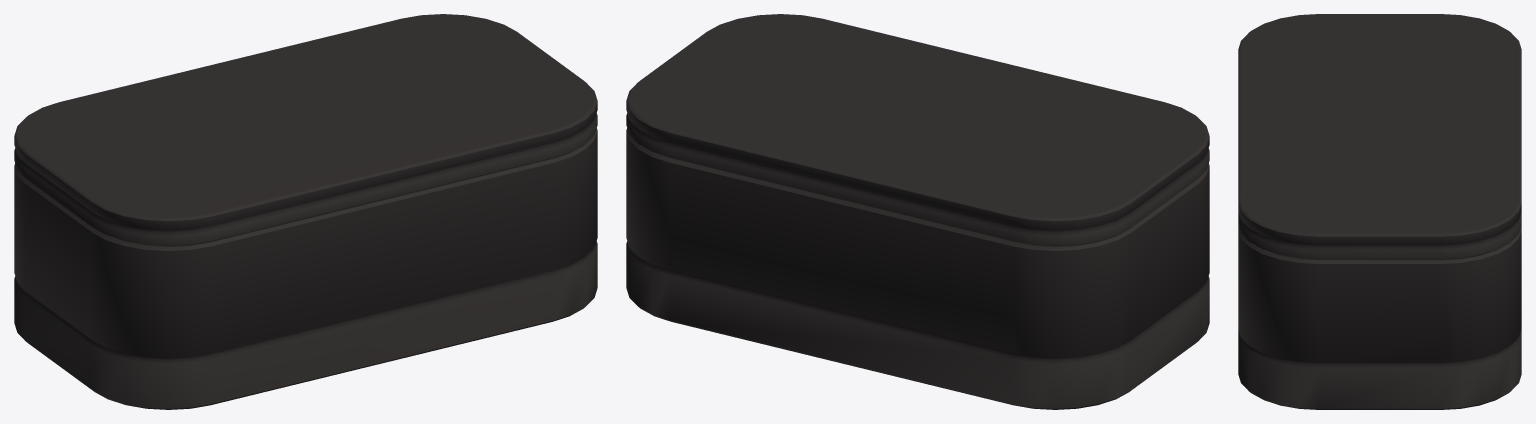
Rendered from damas_caixa_pacote.glb.
3 renders of one model, left to right at view 1: azimuth 30°, elevation 25°; view 2: azimuth 150°, elevation 25°; view 3: azimuth 270°, elevation 25°, orthographic. The views are drawn at different scales.
Parts seen in each view (by area): view 1: damas_caixa_pacote, tampa; view 2: damas_caixa_pacote, tampa; view 3: tampa, damas_caixa_pacote.
Part boxes in pixels (bbox=[...]): damas_caixa_pacote: bbox=[14, 128, 597, 409]; tampa: bbox=[14, 14, 597, 247]; damas_caixa_pacote: bbox=[626, 128, 1209, 409]; tampa: bbox=[626, 14, 1209, 247]; tampa: bbox=[1238, 14, 1521, 260]; damas_caixa_pacote: bbox=[1238, 226, 1521, 409].
Size of the model in its own units: 0.1689 by 0.0629 by 0.0913.
Materials: 1 (1 with a texture image).
